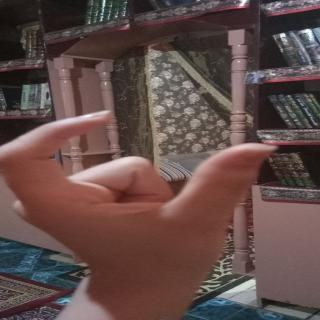NOON: (4, 106, 311, 266)
